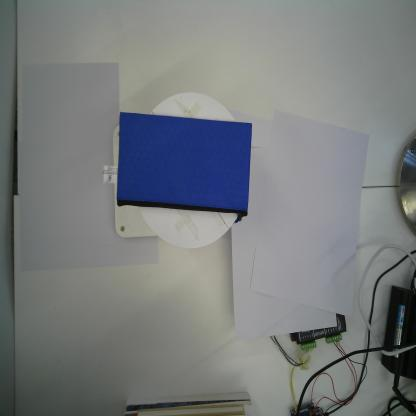Stationery: (100, 110, 254, 226)
